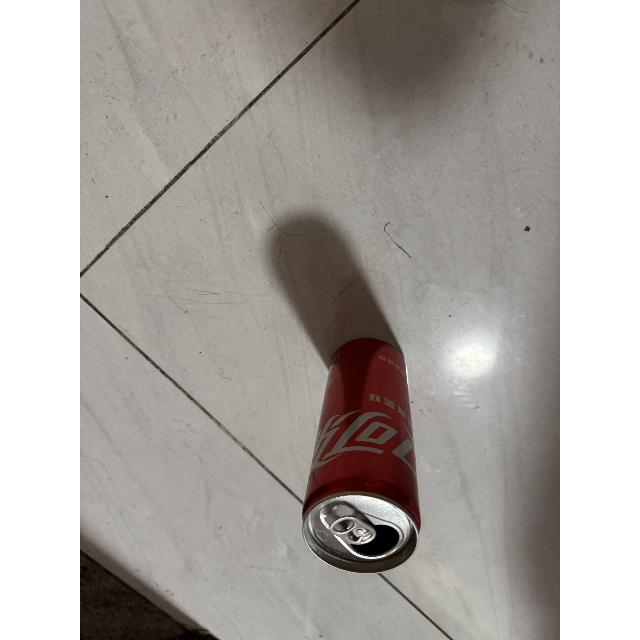coca-cola: (300, 336, 426, 578)
